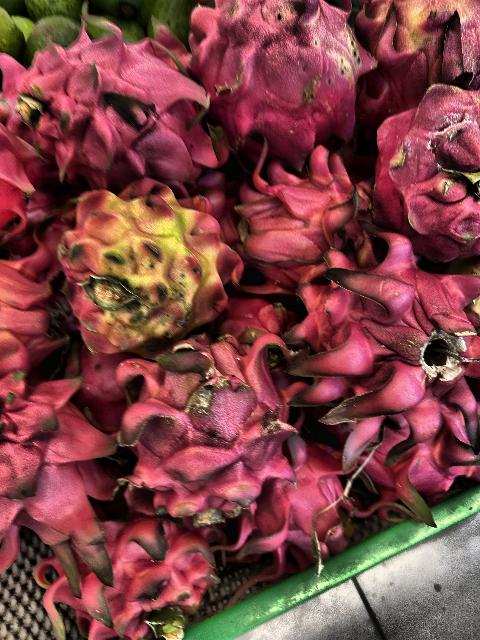buah-naga-belum-matang: (44, 178, 240, 336), (352, 0, 480, 101)
buah-naga-matang: (294, 245, 474, 429), (114, 355, 298, 511), (20, 31, 214, 177), (178, 0, 366, 148), (352, 74, 480, 250), (0, 376, 108, 574), (30, 516, 202, 630), (235, 146, 367, 284)
